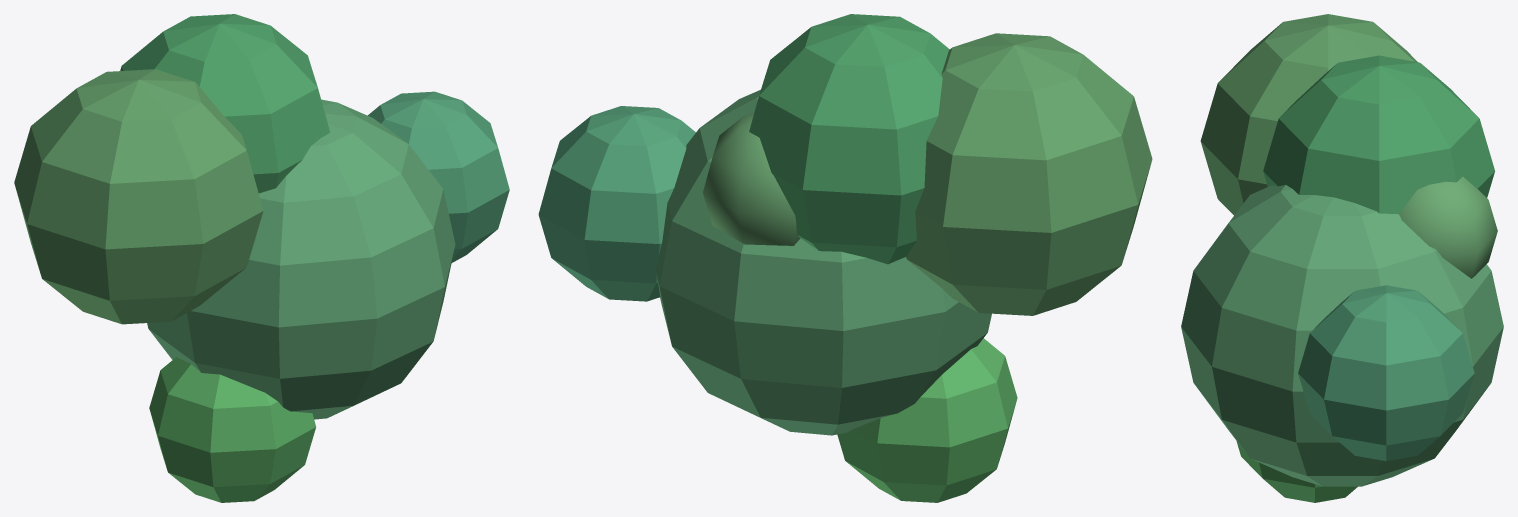
File: bush_round_v1.glb
3 renders of one model, left to right at view 1: azimuth 30°, elevation 25°; view 2: azimuth 150°, elevation 25°; view 3: azimuth 270°, elevation 25°, orthographic. The views are drawn at different scales.
Parts seen in each view (by area): view 1: bush_center, Sphere.001, Sphere.003, Sphere.002, Sphere; view 2: Sphere.001, bush_center, Sphere.003, Sphere, Sphere.002, Sphere.004; view 3: bush_center, Sphere.003, Sphere, Sphere.001, Sphere.004, Sphere.002.
Part boxes in pixels (x1,y1,x2,y2): bush_center: (147,99,455,419); Sphere.001: (14,69,263,324); Sphere.003: (120,14,330,193); Sphere.002: (149,357,315,502); Sphere: (368,91,509,262); Sphere.001: (906,33,1152,315); bush_center: (655,89,991,435); Sphere.003: (749,14,949,264); Sphere: (538,106,695,301); Sphere.002: (837,338,1017,502); Sphere.004: (703,113,800,245); bush_center: (1181,185,1503,486); Sphere.003: (1263,55,1494,214); Sphere: (1298,285,1474,461); Sphere.001: (1200,14,1417,215); Sphere.004: (1399,176,1497,278); Sphere.002: (1236,441,1357,502).
Bounding box in the file's own units: 1.78 × 1.5 × 1.
